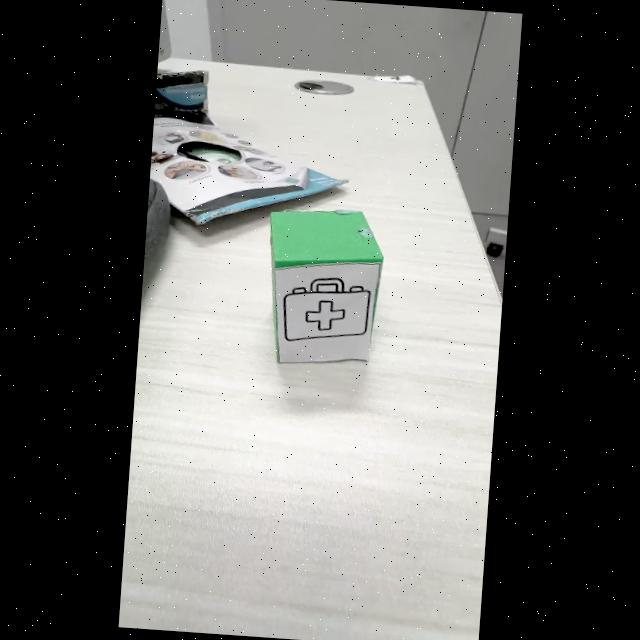Medkit: (282, 279, 370, 341)
